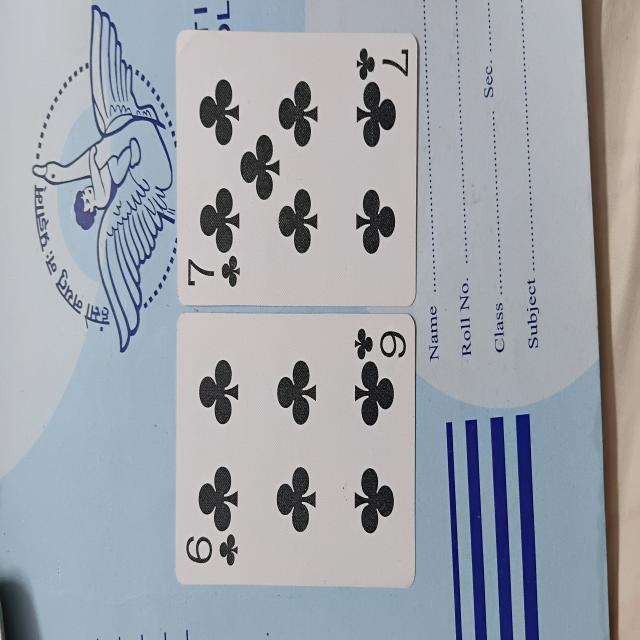6C: (173, 314, 417, 592)
7C: (173, 23, 419, 310)
